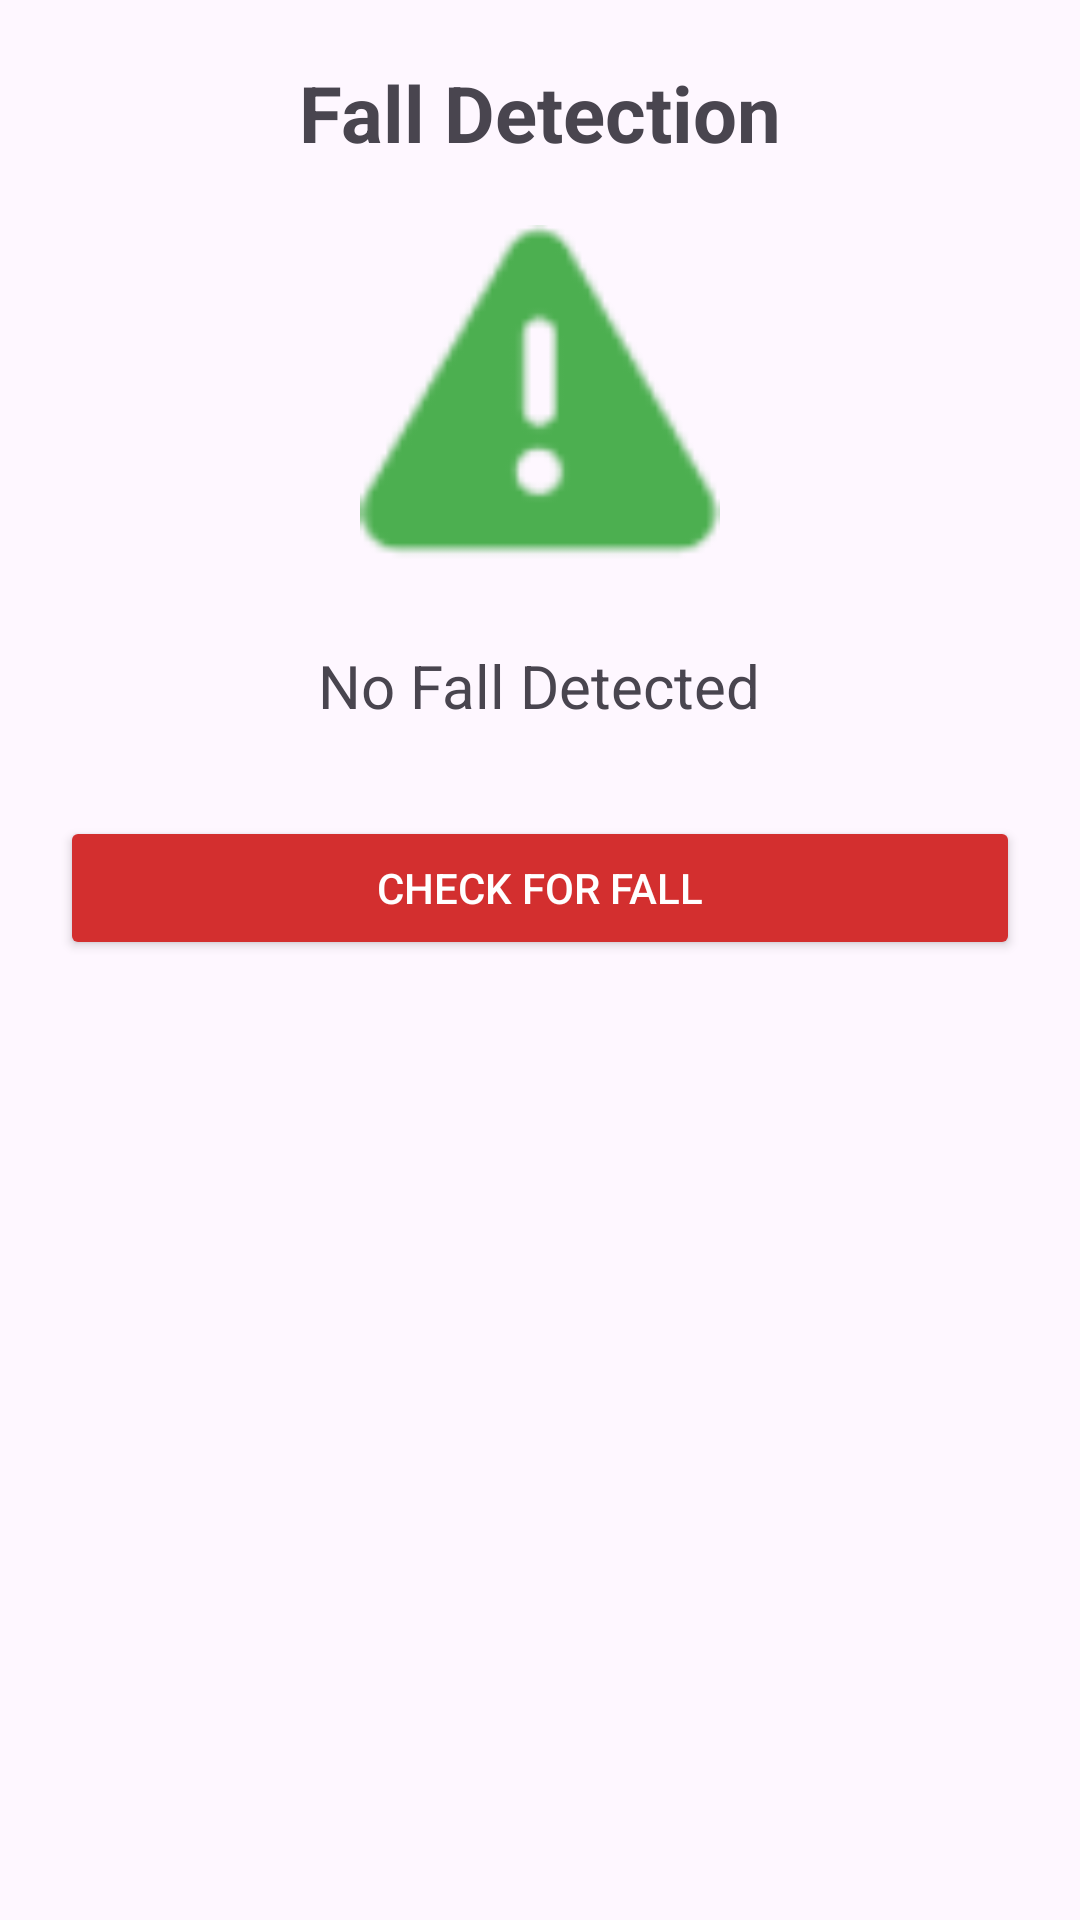

Screen size 1080w x 1920h. Icon name, then its box in pixels as detection(x1, y1, x2, y2):
alert: detection(360, 225, 720, 553)
